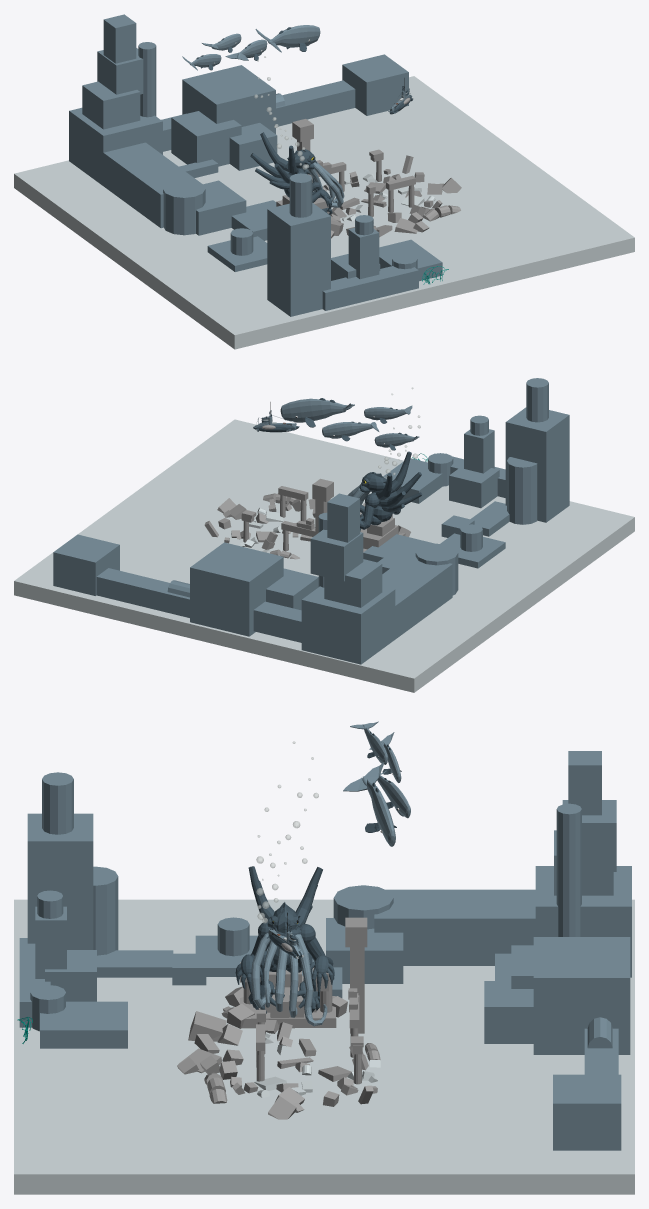
File: cthulu.glb
The picture shows the model from 3 angles, top to bottom: view 1: azimuth 30°, elevation 25°; view 2: azimuth 150°, elevation 25°; view 3: azimuth 270°, elevation 25°; orthographic projection. The views are drawn at different scales.
Visible parts, largest first — view 1: group34061008, group1173355571, group1290929831, group113859456, group112007940, group513670544, group1715491709, group2075119558, group1586193660, group1502594788, group1073669013, group904607785 (+14 smaller); view 2: group34061008, group1290929831, group112007940, group1173355571, group113859456, group1715491709, group1073669013, group513670544, group1502594788, group1113439619, group557347958, group904607785 (+16 smaller); view 3: group34061008, group1290929831, group113859456, group1715491709, group1173355571, group513670544, group112007940, group2025469470, group1397768032, group1975973425, group1073669013, group1408655335 (+21 smaller).
Part boxes in pixels (box(x1,y1,x2,y2)): group34061008: box(14, 76, 634, 349); group1173355571: box(267, 203, 330, 316); group1290929831: box(182, 65, 275, 133); group113859456: box(99, 142, 202, 228); group112007940: box(69, 107, 162, 185); group513670544: box(342, 54, 408, 115); group1715491709: box(250, 132, 344, 221); group2075119558: box(171, 111, 241, 166); group1586193660: box(322, 266, 418, 310); group1502594788: box(276, 80, 355, 126); group1073669013: box(182, 25, 320, 70); group904607785: box(82, 81, 140, 129); group34061008: box(14, 419, 634, 692); group1290929831: box(190, 542, 283, 636); group112007940: box(301, 586, 395, 664); group1173355571: box(505, 407, 569, 522); group113859456: box(380, 553, 452, 648); group1715491709: box(347, 451, 422, 552); group1073669013: box(280, 398, 419, 450); group513670544: box(53, 534, 119, 595); group1502594788: box(96, 568, 189, 617); group1113439619: box(310, 529, 363, 581); group557347958: box(507, 457, 537, 524); group904607785: box(324, 559, 382, 607); group34061008: box(14, 899, 634, 1194); group1290929831: box(533, 937, 630, 1054); group113859456: box(374, 889, 535, 965); group1715491709: box(235, 866, 336, 1028); group1173355571: box(27, 813, 93, 949); group513670544: box(553, 1074, 621, 1150); group112007940: box(535, 866, 631, 977); group2025469470: box(40, 1001, 127, 1048); group1397768032: box(556, 803, 581, 936); group1975973425: box(326, 918, 403, 983); group1073669013: box(343, 721, 410, 846); group1408655335: box(484, 981, 533, 1043).
Bounding box in the file's own units: 6.73 × 3.04 × 6.43.
